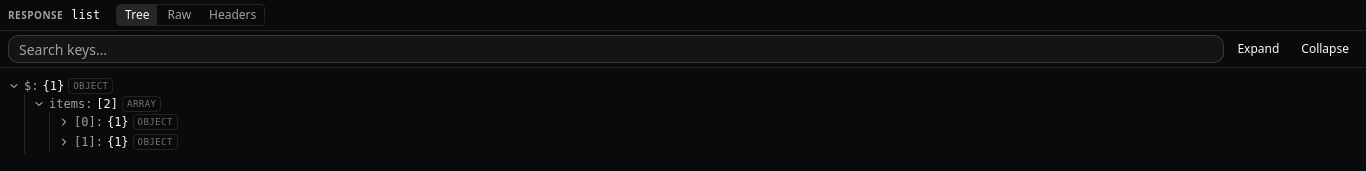
Test: ResponseColumn › Headers tab shows the status chip and sorted headers
What coordinates should you click on to do the following:
click the button "Headers"
I would click on:
 (233, 15)
Its box is [201, 5, 264, 25].
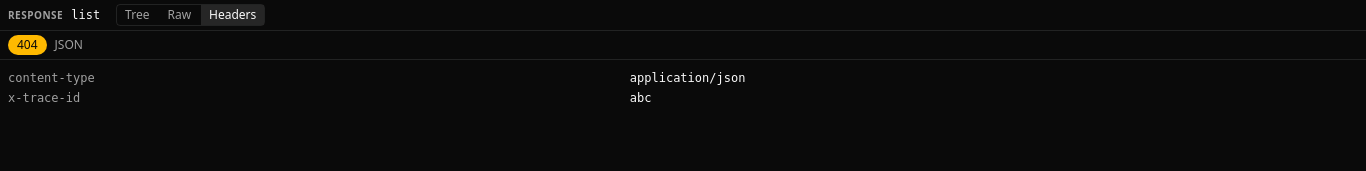
Expected: the icon "404" is shown, [8, 35, 47, 55]
Expected: the text "abc" is shown, [630, 88, 1358, 108]
